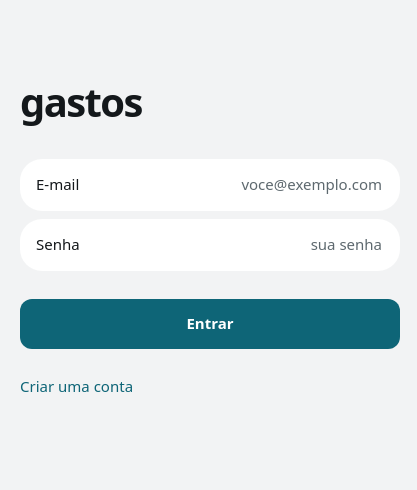
Test: Login: sign-up by registration mode › creates the account and shows field errors
Click the button "Criar uma conta": (76,387) [20,365,133,409]
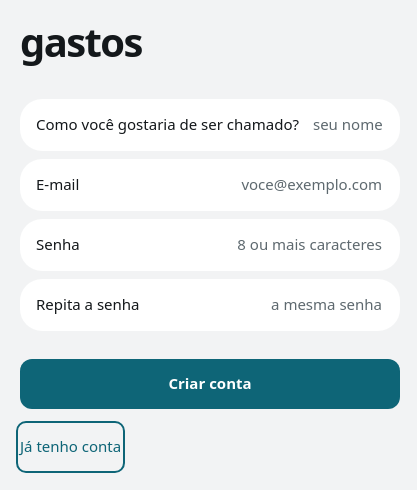
In the field labelled "Como você gostaria de ser chamado?": (348,125) [311,113,384,137], type "Ana"
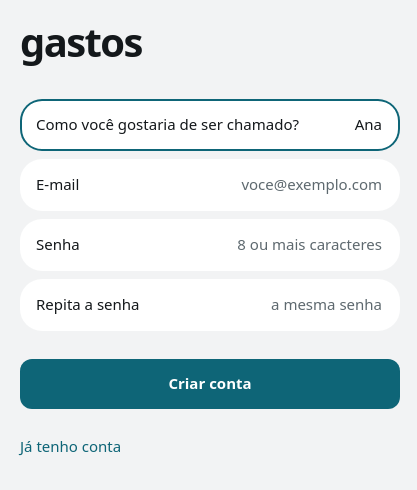
In the field labelled "E-mail": (238,185) [91,173,384,197], type "ana@example.com"
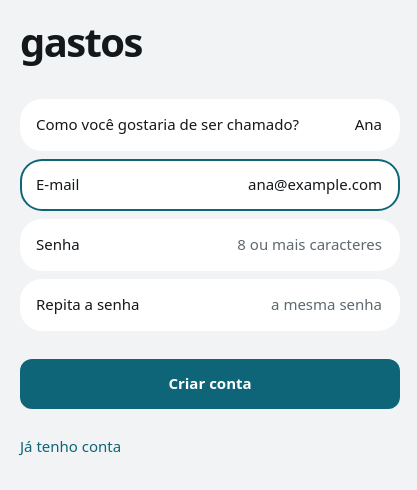
In the password field labelled "Senha": (238,245) [92,233,384,257], type "123"
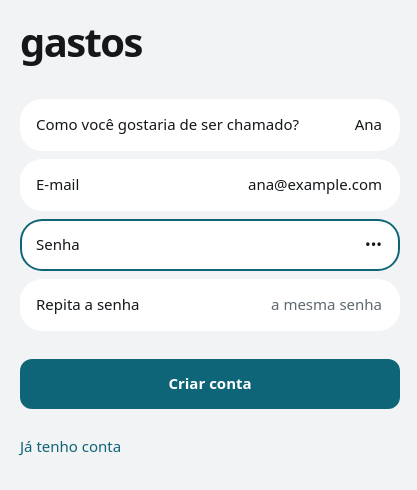
In the password field labelled "Repita a senha": (268,305) [152,293,384,317], type "123"
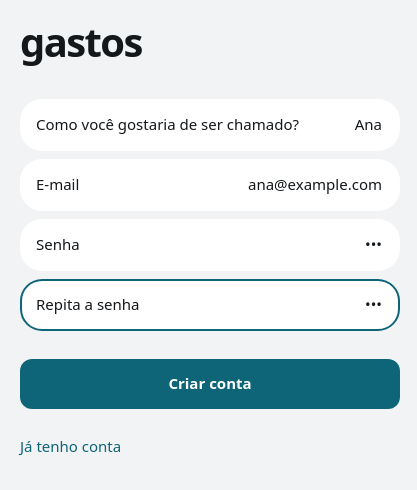
Click the button "Criar conta": (210,384) [20,359,400,409]
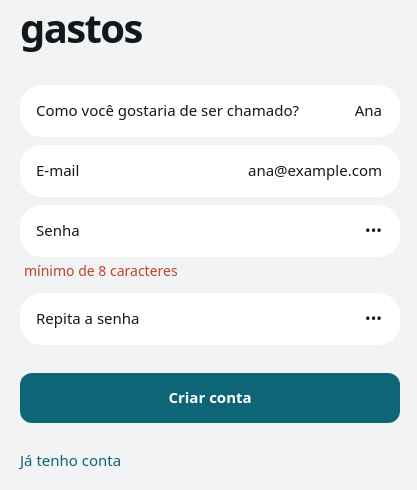
Check: the text "mínimo de 8 caracteres" is shown, box [24,261,178,280]
